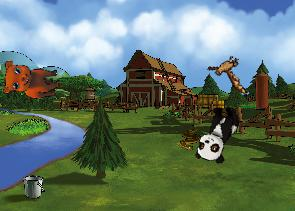bear: (0, 55, 61, 101)
eagle: (202, 49, 257, 97)
panda: (192, 100, 243, 167)
